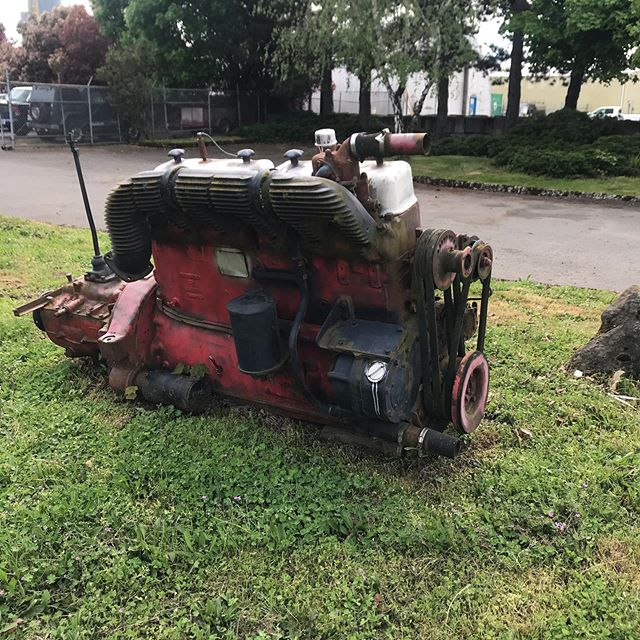grass: (21, 247, 640, 640)
motor: (31, 128, 505, 471)
vegetation: (39, 1, 610, 144)
